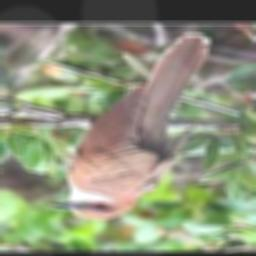Cuckoo: (51, 34, 210, 219)
